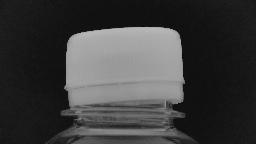Loose Cap: (56, 24, 194, 120)
